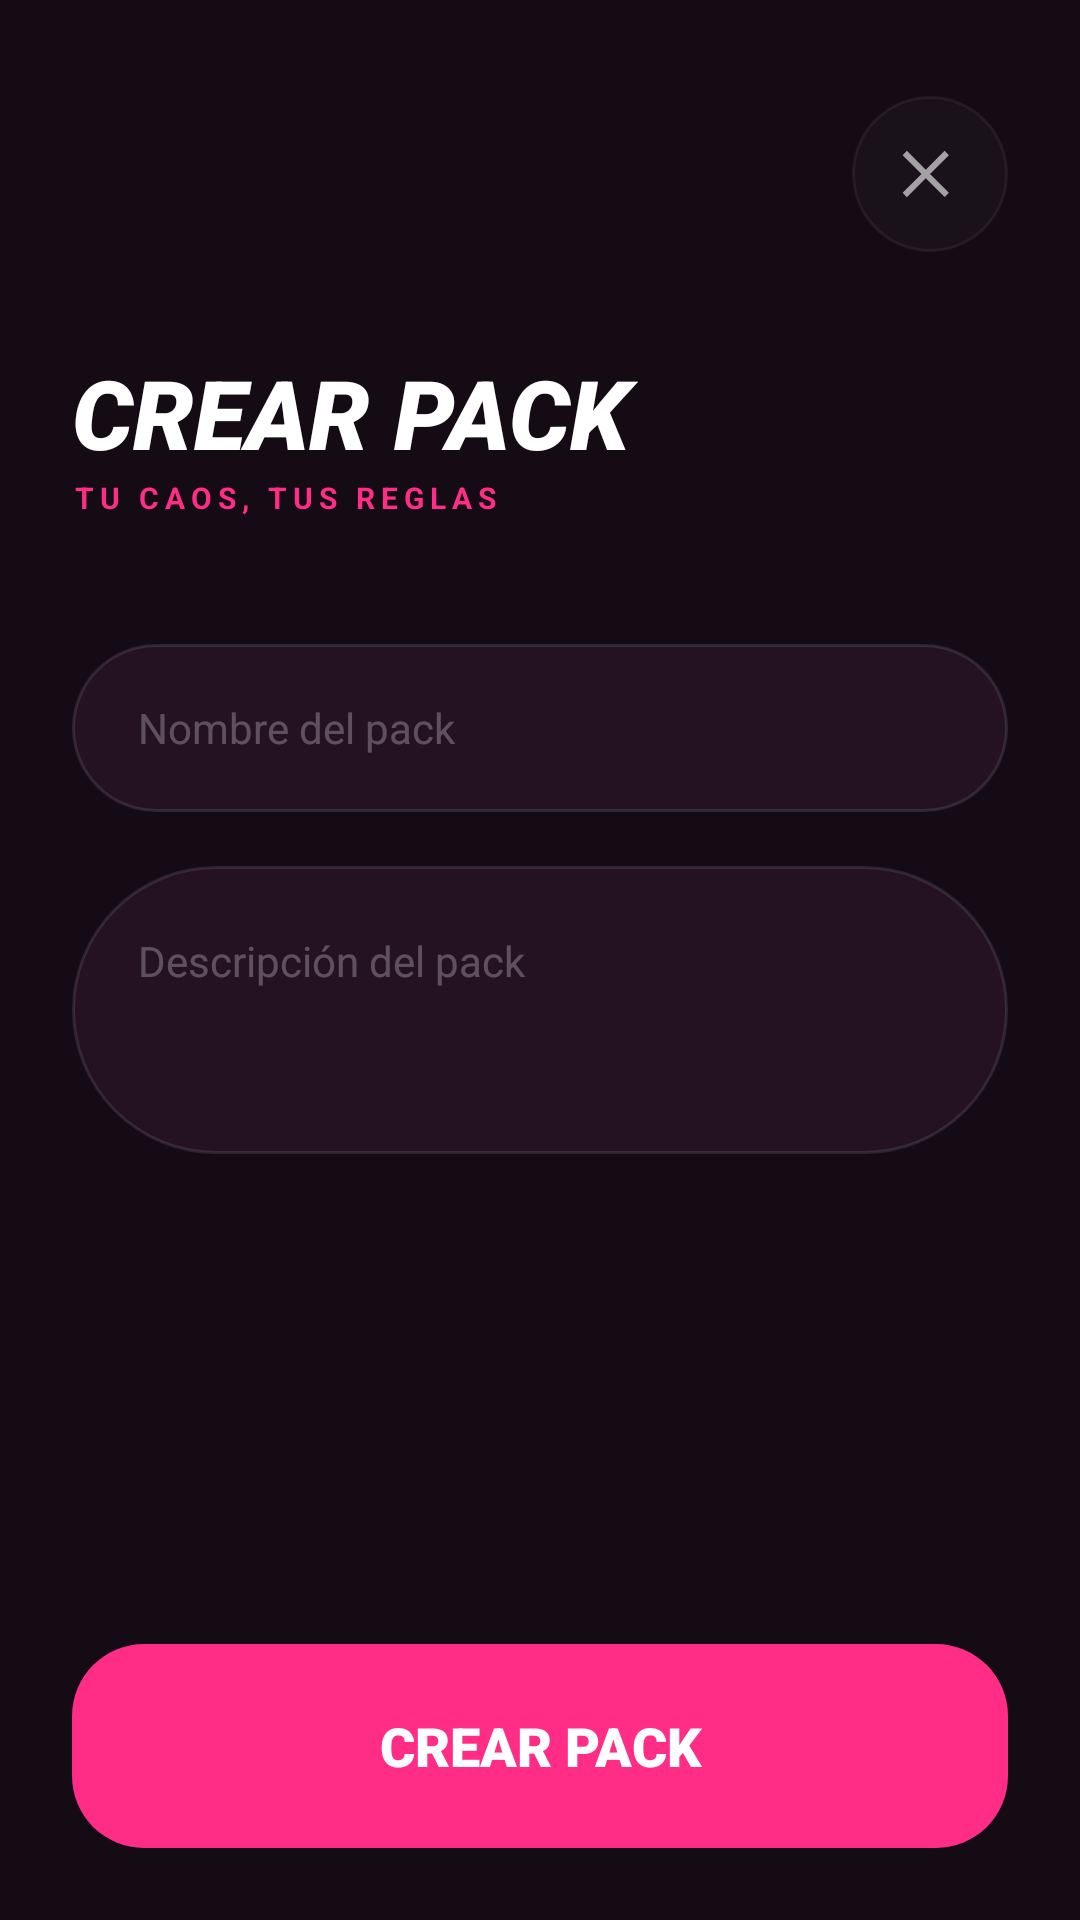

Icon click points for this 1080px×1920px phone screenshot, format (x=x, y=y):
Cerrar: (x=925, y=174)
